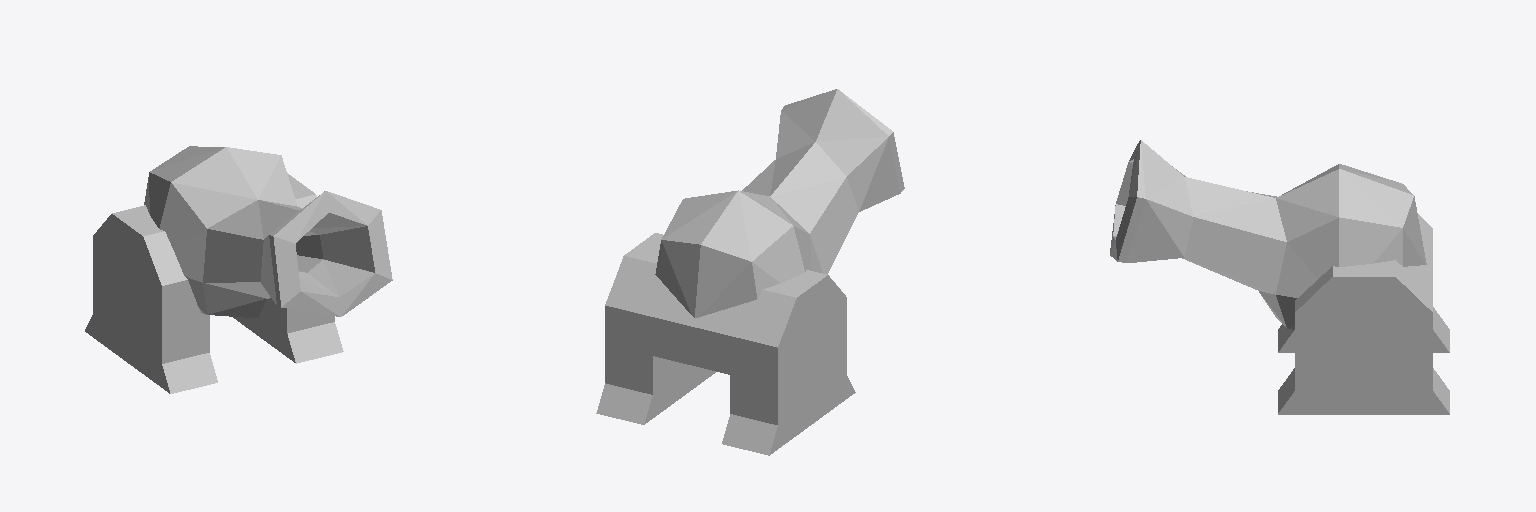
The model's file is cannon.obj.
The picture shows the model from 3 angles: view 1: azimuth 30°, elevation 25°; view 2: azimuth 150°, elevation 25°; view 3: azimuth 270°, elevation 25°; orthographic projection.
Visible parts, largest first — view 1: Cube_Cube.001; view 2: Cube_Cube.001; view 3: Cube_Cube.001.
Part boxes in pixels (x1,y1,x2,y2): Cube_Cube.001: (85, 146, 392, 393); Cube_Cube.001: (596, 89, 904, 455); Cube_Cube.001: (1110, 140, 1449, 414).
Bounding box in the file's own units: 0.9548 × 1.23 × 1.63.